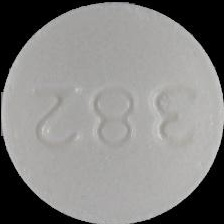0555-0392: (0, 0, 224, 224)
